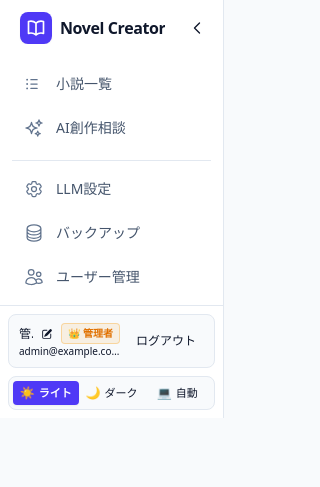
Scenario: Nav component › メニュー縮小時でも管理者の場合はロールアイコンが表示されること
Step 1. Click the button named "メニューを縮小" → {"x": 197, "y": 28}, box left=183, top=14, right=211, bottom=42
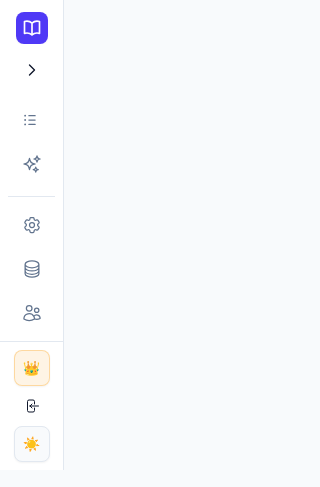
Check: the button named "ログイン中: 管理者ユーザー（管理者）" is shown, box left=14, top=350, right=50, bottom=386
